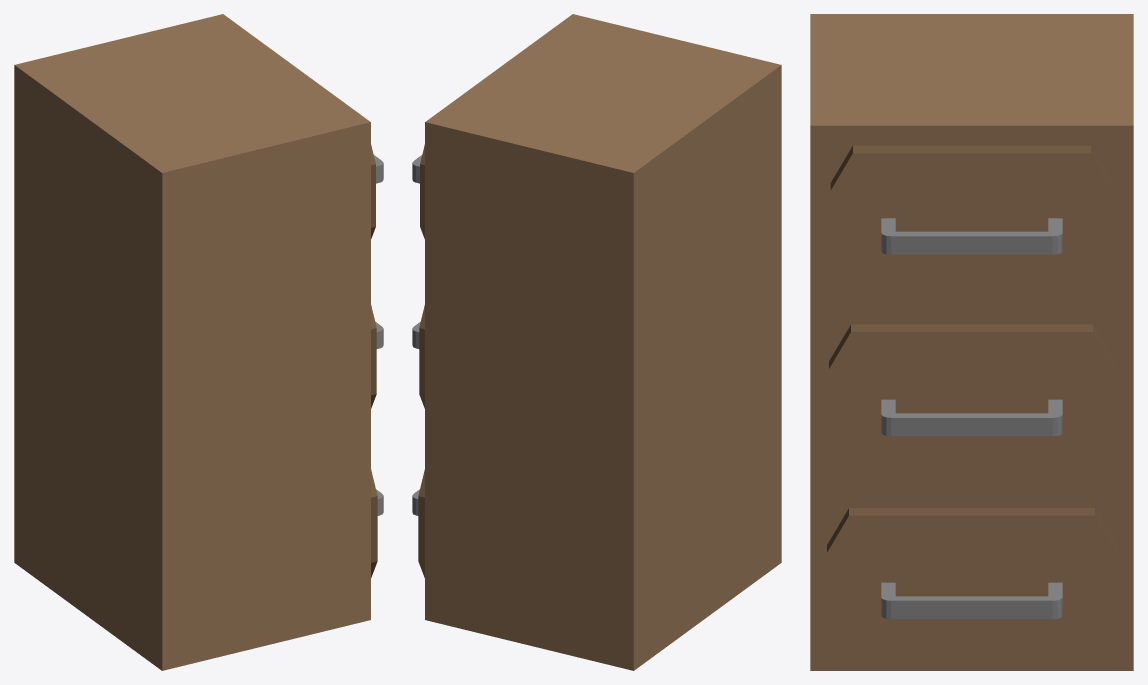
Rendered from Wooden Drawer.fbx.
3 views of the same model, side by side, from view 1: azimuth 30°, elevation 25°; view 2: azimuth 150°, elevation 25°; view 3: azimuth 270°, elevation 25° (orthographic). The views are drawn at different scales.
Parts seen in each view (by area): view 1: Cube; view 2: Cube; view 3: Cube.
Part boxes in pixels (x1,y1,x2,y2): Cube: (14,14,383,670); Cube: (412,14,781,670); Cube: (810,14,1133,670).
Bounding box in the file's own units: 2.01 × 3.72 × 2.
